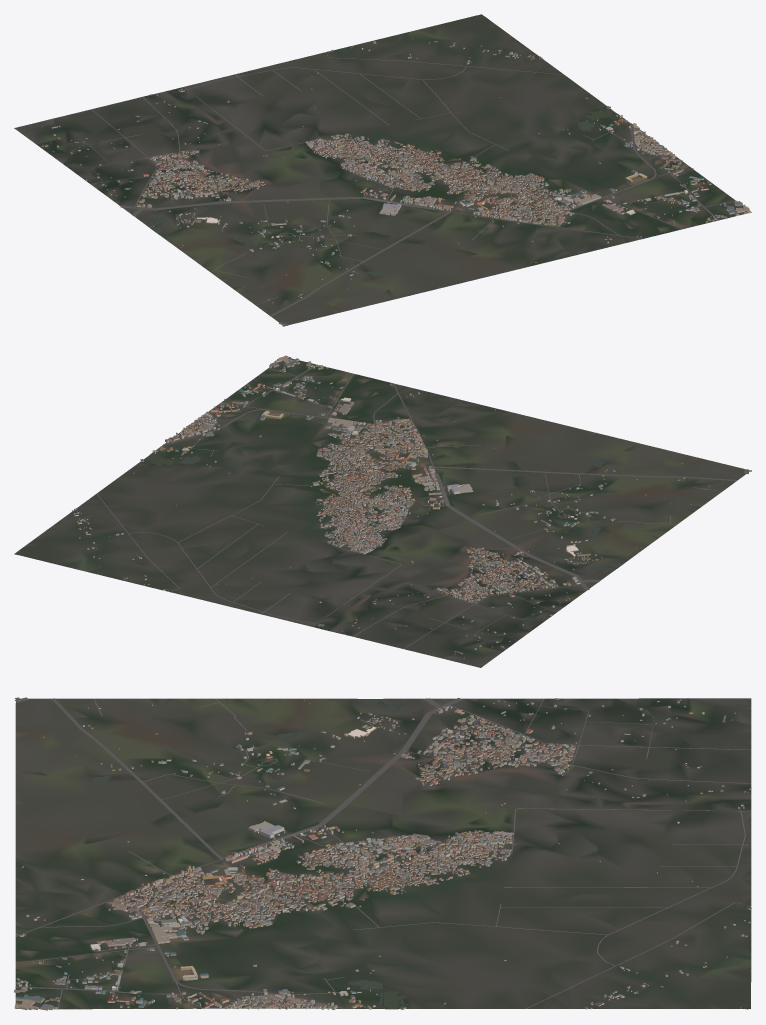
The picture shows the model from 3 angles, top to bottom: view 1: azimuth 30°, elevation 25°; view 2: azimuth 150°, elevation 25°; view 3: azimuth 270°, elevation 25°; orthographic projection. The views are drawn at different scales.
Visible parts, largest first — view 1: ground, buildings, roads, water; view 2: ground, buildings, roads, water; view 3: ground, buildings, roads, water.
Boxes of the visible parts, x1,y1,x2,y2 form: ground: [14, 14, 751, 324]; buildings: [41, 16, 751, 304]; roads: [89, 54, 734, 326]; water: [151, 108, 681, 276]; ground: [14, 357, 745, 667]; buildings: [18, 355, 709, 658]; roads: [96, 365, 751, 648]; water: [145, 390, 623, 572]; ground: [15, 698, 751, 1009]; buildings: [14, 698, 751, 1010]; roads: [14, 697, 750, 1008]; water: [90, 699, 408, 1008].
Size of the model in its own units: 2822 by 28.6 by 2813.
